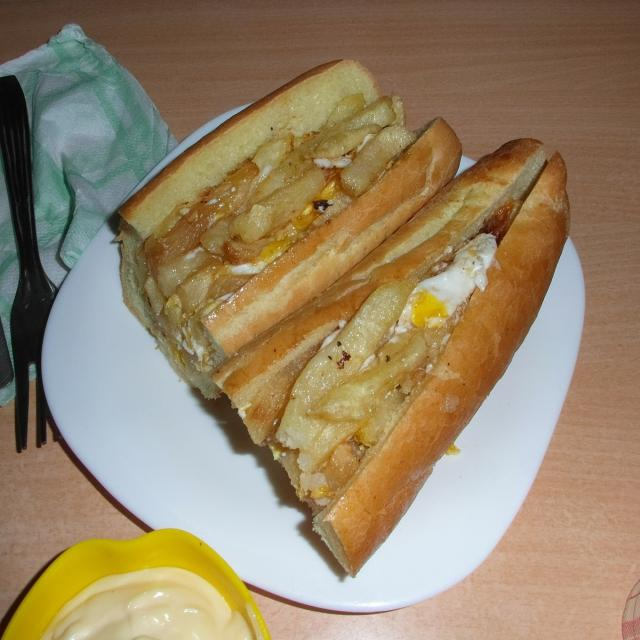Sandwitch tounsi: (250, 139, 588, 581), (122, 86, 415, 292)
